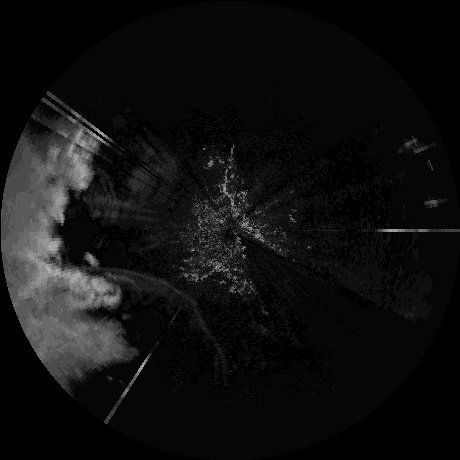frontgust: (108, 262, 225, 363)
